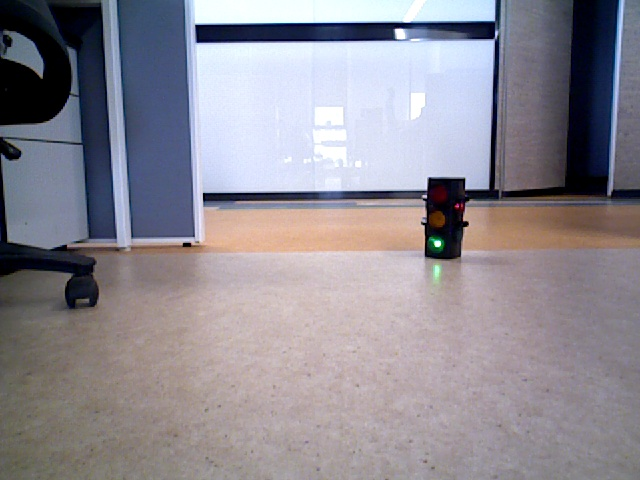green: (425, 177, 460, 256)
